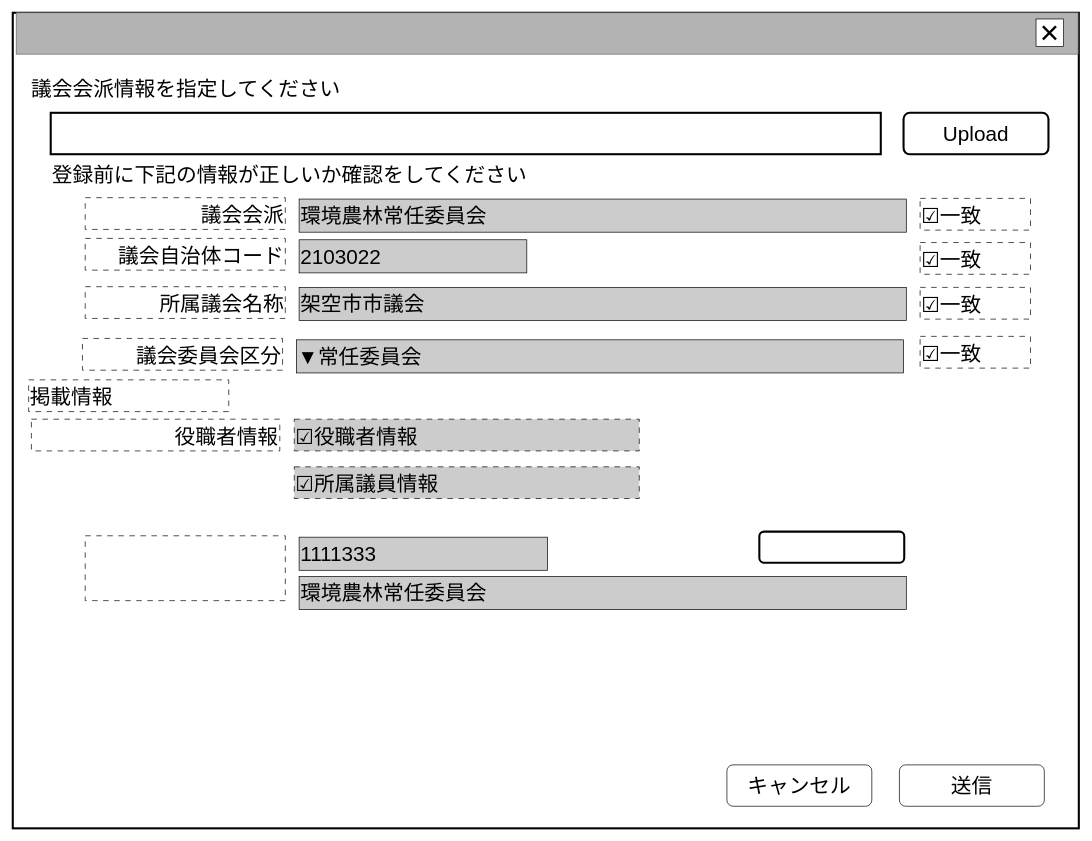
This 1092x841 diagram has some shape labels left out. The centre of each missing label's shape, as x and y in pixels:
"検索" goes at (x=831, y=546).
"結びつける登録済の議会内委員会" goes at (x=185, y=568).
